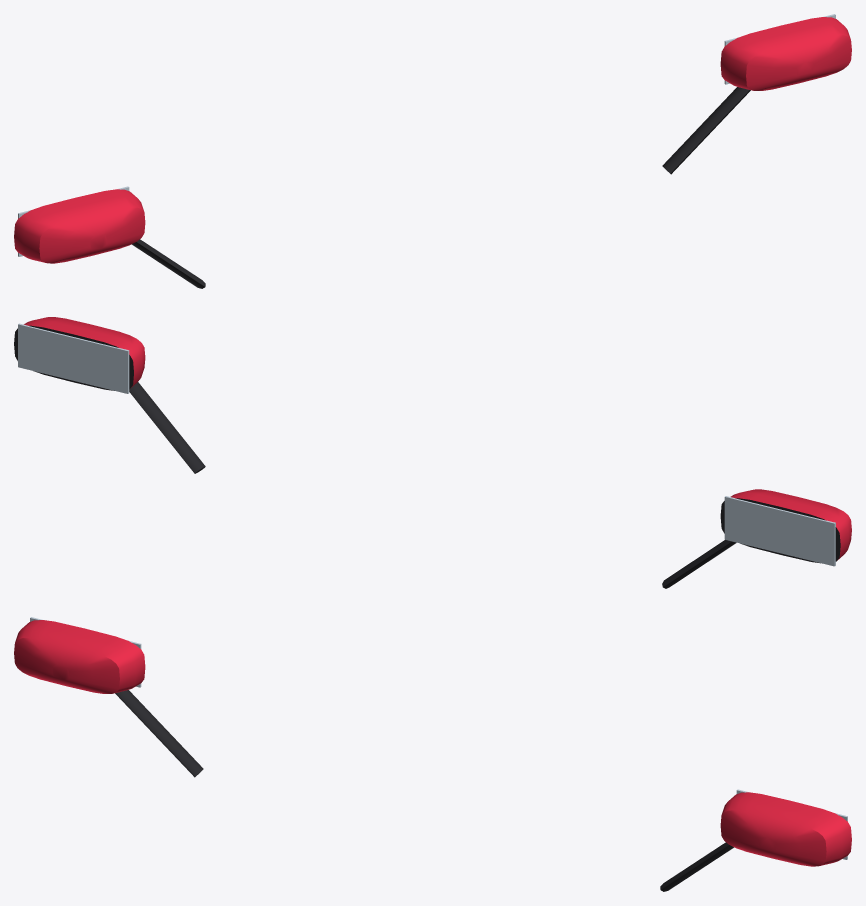
Rendered from standard.glb.
3 renders of one model, top to bottom at view 1: azimuth 30°, elevation 25°; view 2: azimuth 150°, elevation 25°; view 3: azimuth 330°, elevation 25°, orthographic.
Parts seen in each view (by area): view 1: Mirrors; view 2: Mirrors, MirrorGlassR, MirrorGlassL; view 3: Mirrors.
Part boxes in pixels (bbox=[...]): Mirrors: bbox=[14, 17, 851, 288]; Mirrors: bbox=[14, 317, 851, 588]; MirrorGlassR: bbox=[724, 496, 835, 566]; MirrorGlassL: bbox=[18, 323, 129, 393]; Mirrors: bbox=[14, 620, 851, 891].
Size of the model in its own units: 1.17 by 0.1542 by 0.0625.
